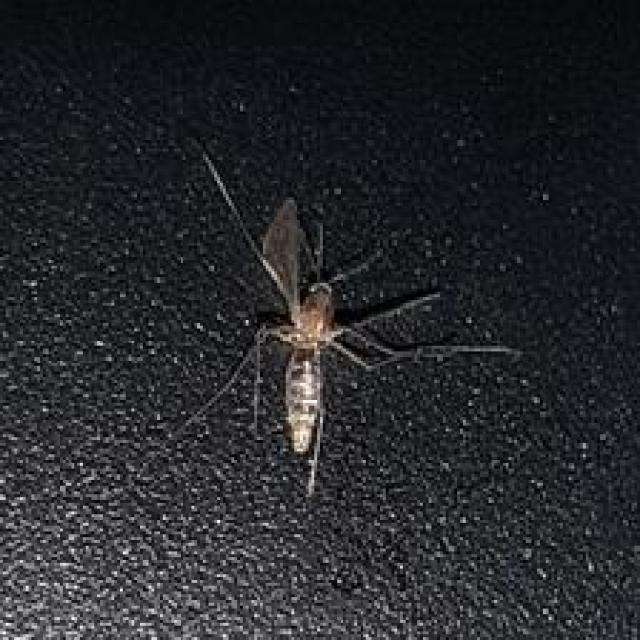Culex: (157, 138, 523, 498)
